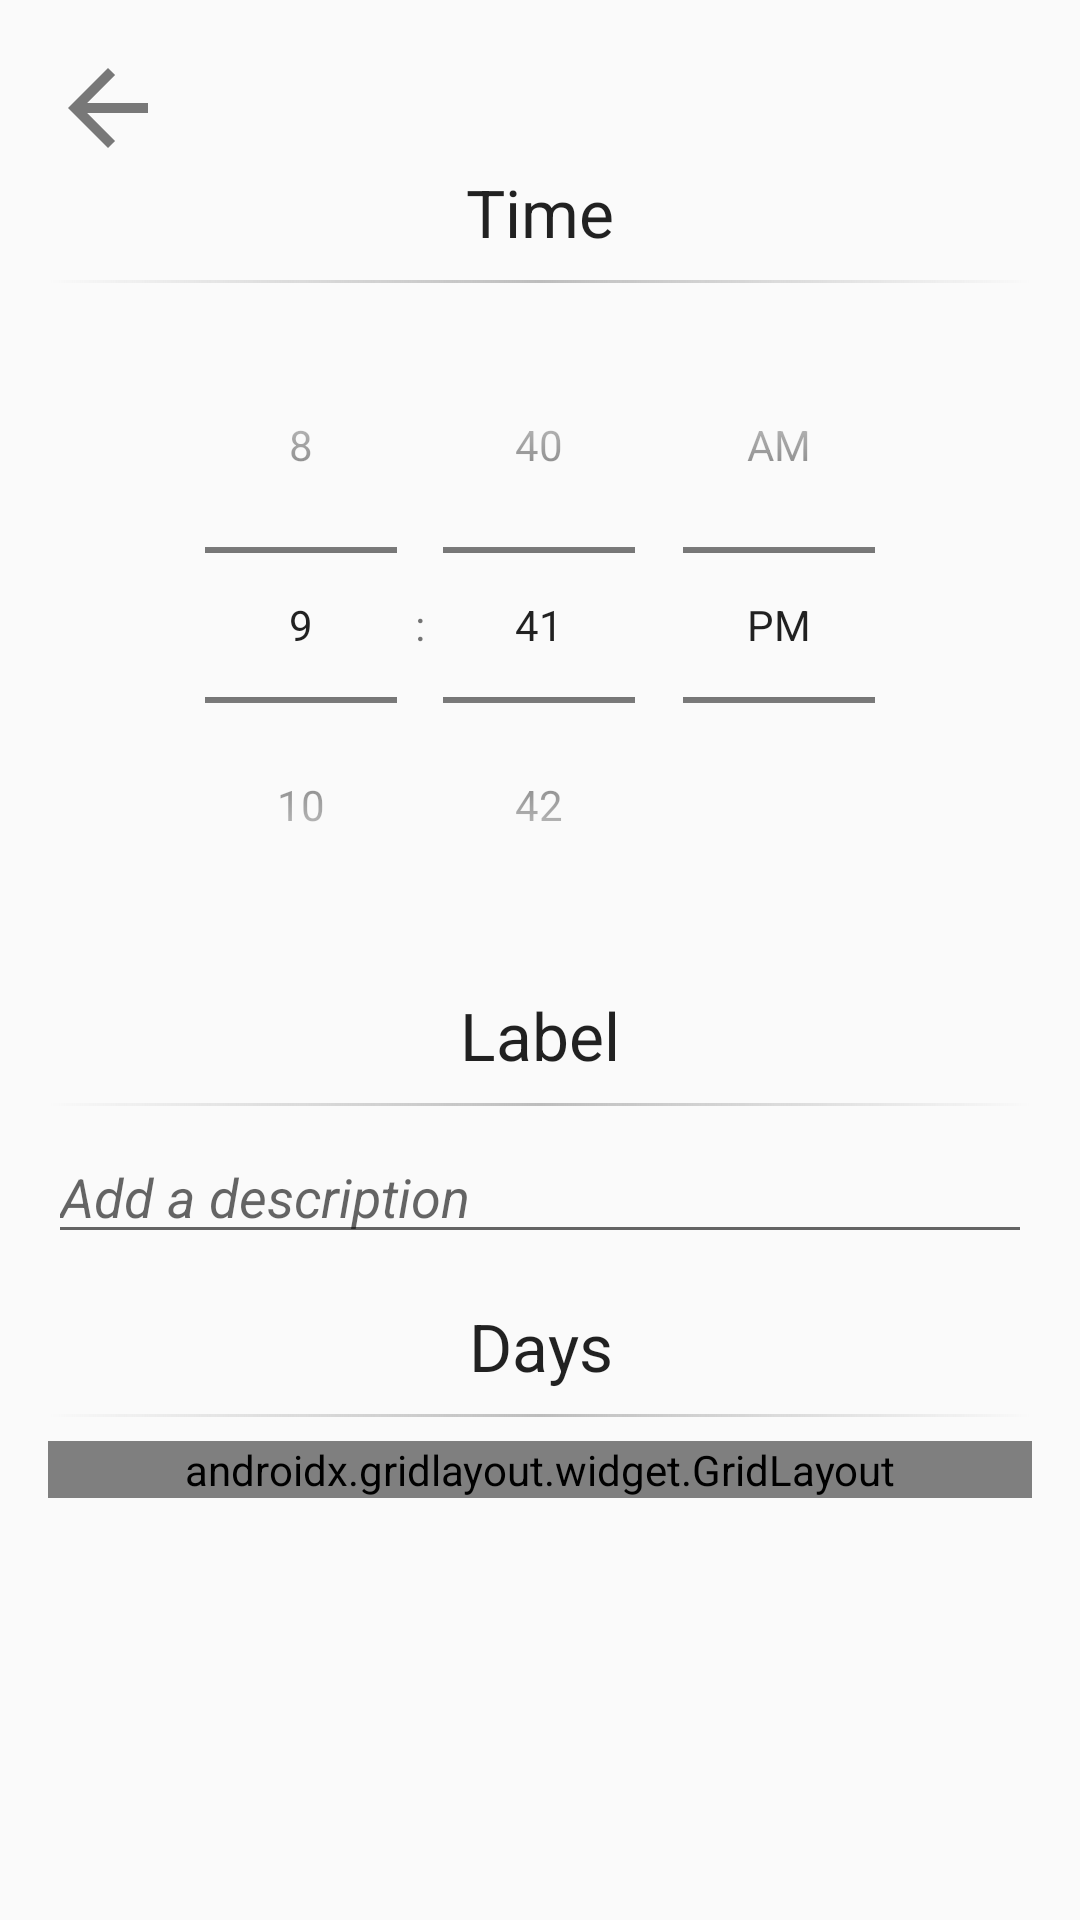

Named icons in this screenshot (1080 × 1920) and their centers, point (x, y):
arrow back: point (108, 108)
